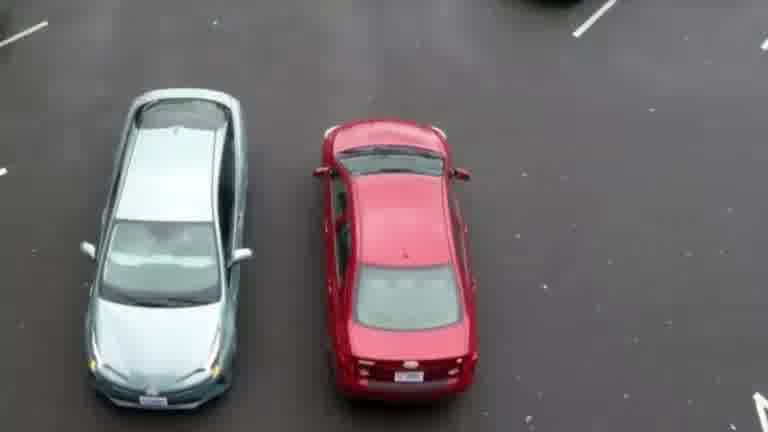car: (288, 106, 518, 431), (90, 77, 247, 414)
